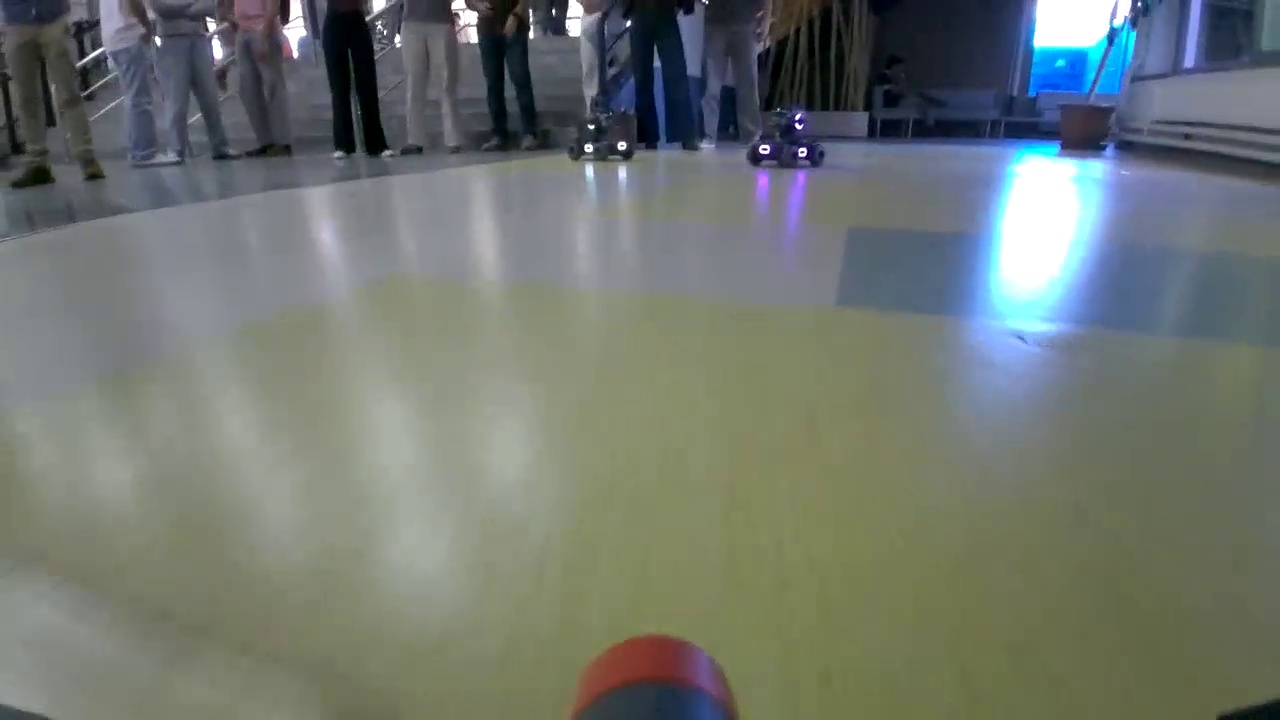robot: (747, 106, 827, 171), (567, 107, 634, 162)
